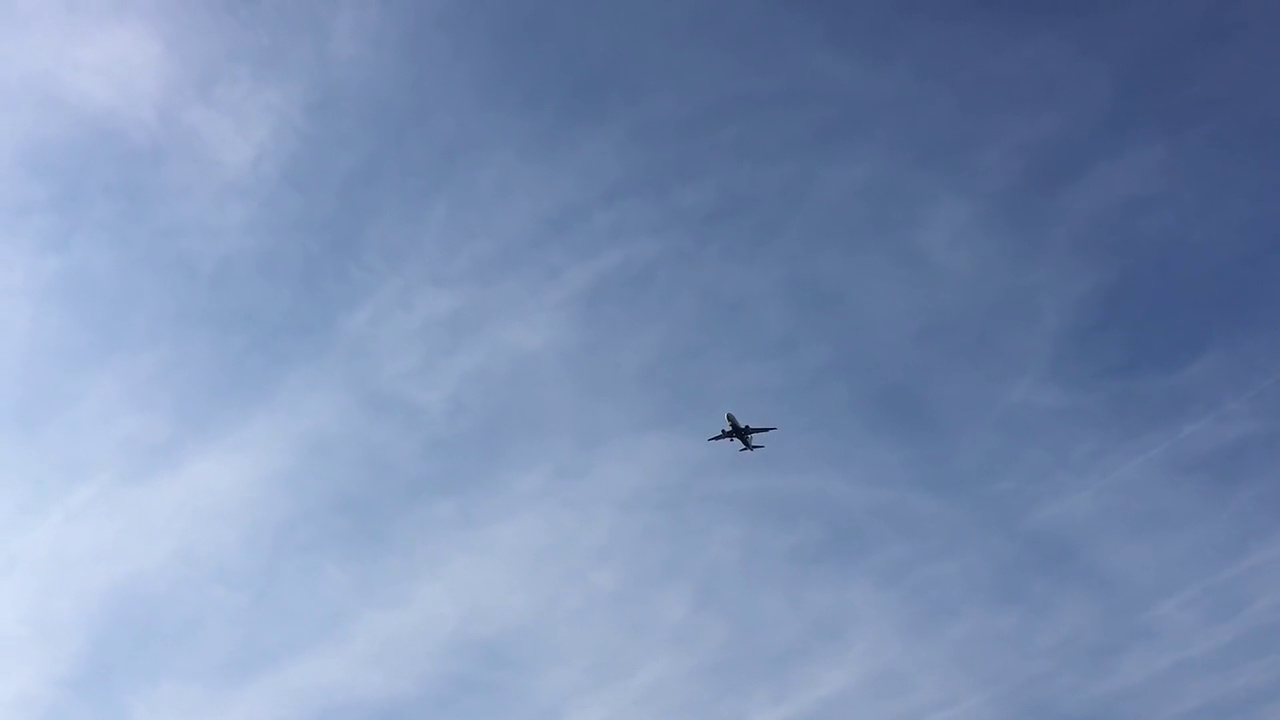plane: (704, 411, 776, 452)
